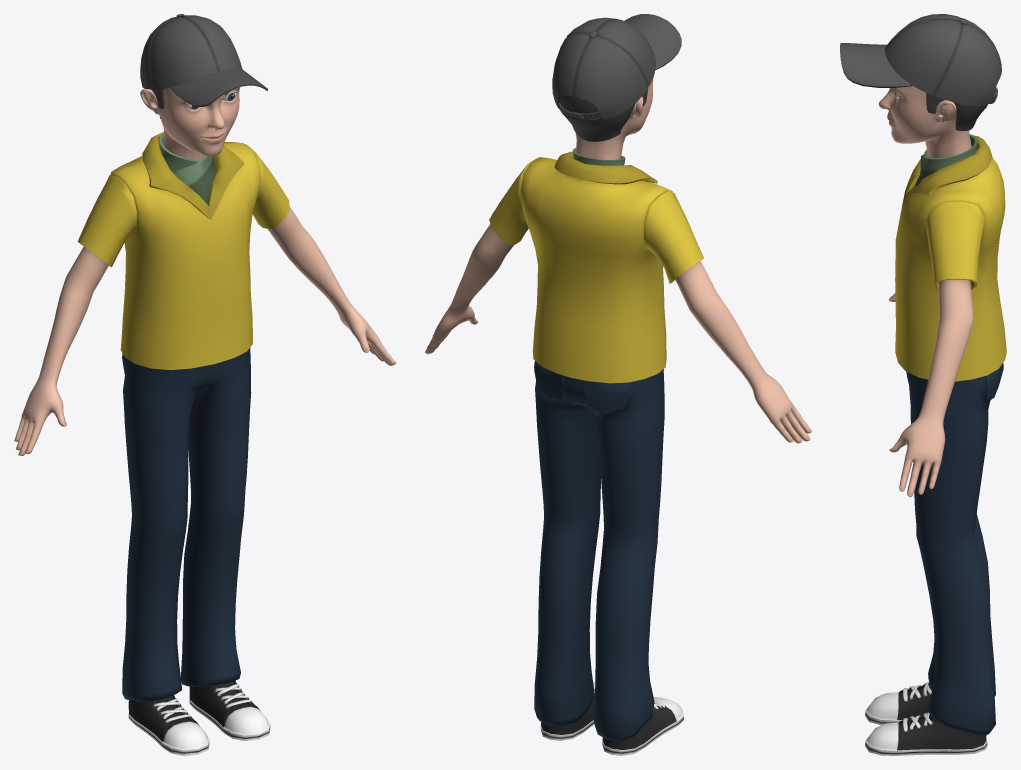
File: Boy.glb
The picture shows the model from 3 angles, left to right: view 1: azimuth 30°, elevation 25°; view 2: azimuth 150°, elevation 25°; view 3: azimuth 270°, elevation 25°; orthographic projection.
Parts seen in each view (by area): view 1: Costume_Default.001, Circle.003, hands.001, Plane.026, Costume_Default.002, Body.001, Cylinder, Costume_Default.003; view 2: Costume_Default.001, Circle.003, Plane.026, hands.001, Costume_Default.002, Plane.022, Body.001; view 3: Costume_Default.001, Circle.003, Plane.026, hands.001, Costume_Default.002, Body.001, Plane.022, Cylinder, Costume_Default.003.
Boxes of the visible parts, left/top/right/bottom form: Costume_Default.001: left=122, top=348, right=251, bottom=701; Circle.003: left=77, top=132, right=289, bottom=369; hands.001: left=14, top=207, right=396, bottom=455; Plane.026: left=140, top=14, right=267, bottom=106; Costume_Default.002: left=128, top=680, right=270, bottom=755; Body.001: left=140, top=87, right=240, bottom=160; Cylinder: left=159, top=132, right=214, bottom=204; Costume_Default.003: left=153, top=683, right=252, bottom=723; Costume_Default.001: left=534, top=361, right=664, bottom=740; Circle.003: left=489, top=151, right=703, bottom=383; Plane.026: left=552, top=14, right=681, bottom=121; hands.001: left=425, top=224, right=811, bottom=443; Costume_Default.002: left=540, top=682, right=683, bottom=755; Plane.022: left=559, top=89, right=647, bottom=141; Body.001: left=575, top=78, right=653, bottom=159; Costume_Default.001: left=906, top=363, right=1003, bottom=735; Circle.003: left=895, top=135, right=1006, bottom=381; Plane.026: left=840, top=14, right=1001, bottom=106; hands.001: left=889, top=279, right=974, bottom=497; Costume_Default.002: left=865, top=682, right=987, bottom=755; Body.001: left=879, top=86, right=971, bottom=157; Plane.022: left=926, top=91, right=994, bottom=130; Cylinder: left=914, top=134, right=977, bottom=186; Costume_Default.003: left=903, top=681, right=933, bottom=732.
Bounding box in the file's own units: 1.24 × 2.19 × 0.4651.
Materials: 1 (1 with a texture image).
